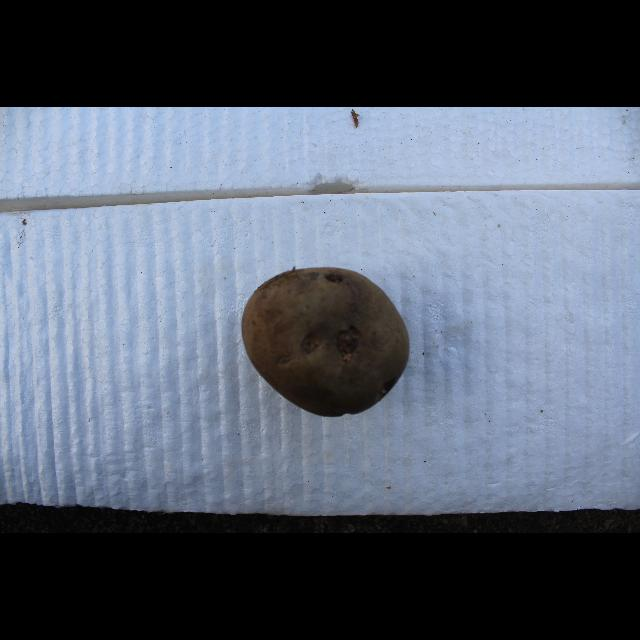Diseased-fungal potato: (239, 262, 413, 423)
